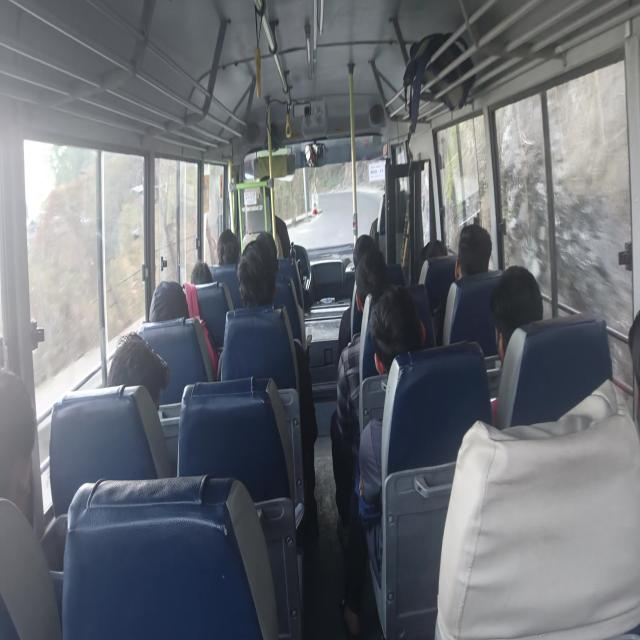person: (218, 232, 318, 540), (339, 285, 426, 635), (441, 223, 492, 344), (0, 367, 36, 523), (490, 264, 543, 365), (369, 285, 426, 376), (106, 331, 170, 411), (338, 233, 375, 356), (350, 249, 388, 336), (237, 238, 277, 308), (454, 223, 492, 280), (148, 280, 190, 322), (418, 239, 448, 285), (216, 229, 240, 266), (190, 260, 213, 285)
